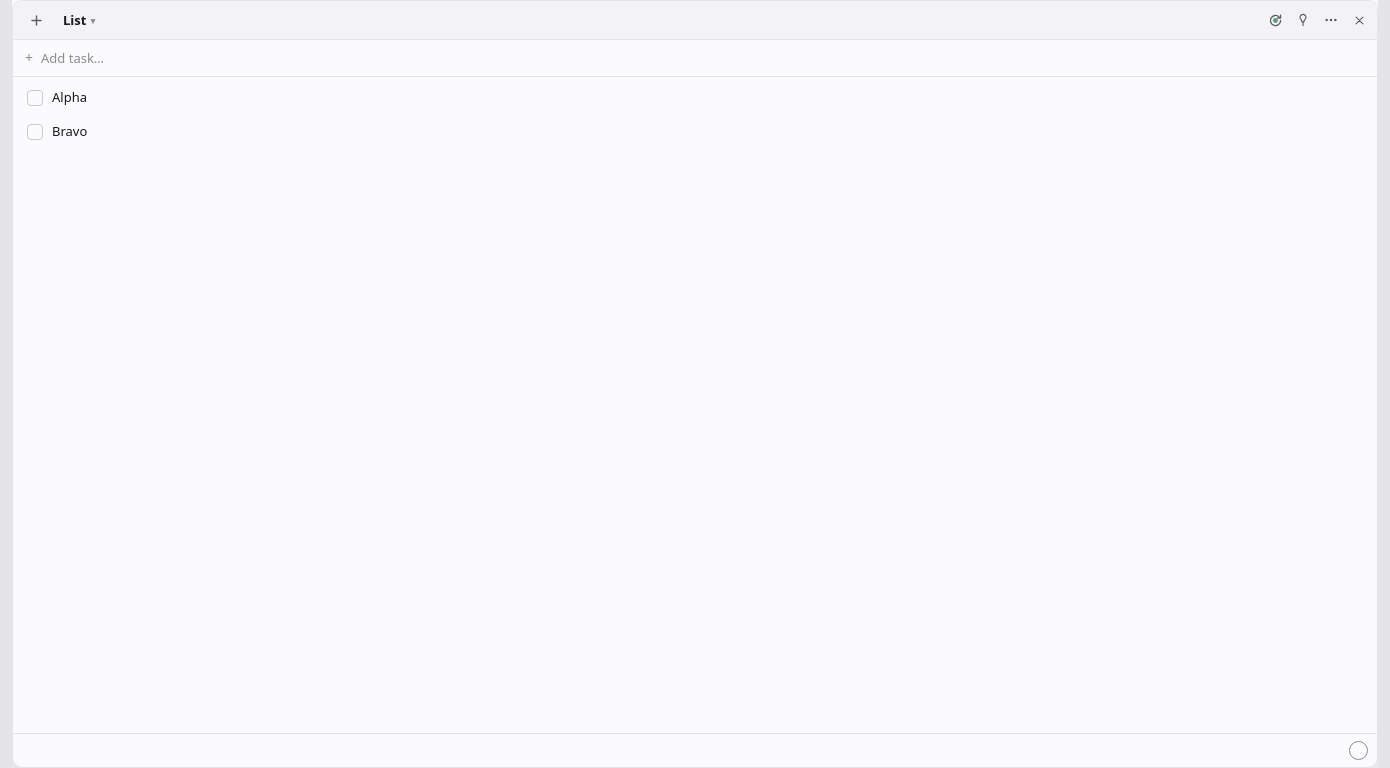
Test case: TaskWidget opening a task › hides subtasks when asked, except under the task being worked on
Expected: the text "Alpha child" is not shown
Click the text "Alpha": (70, 97) [52,88,87,106]
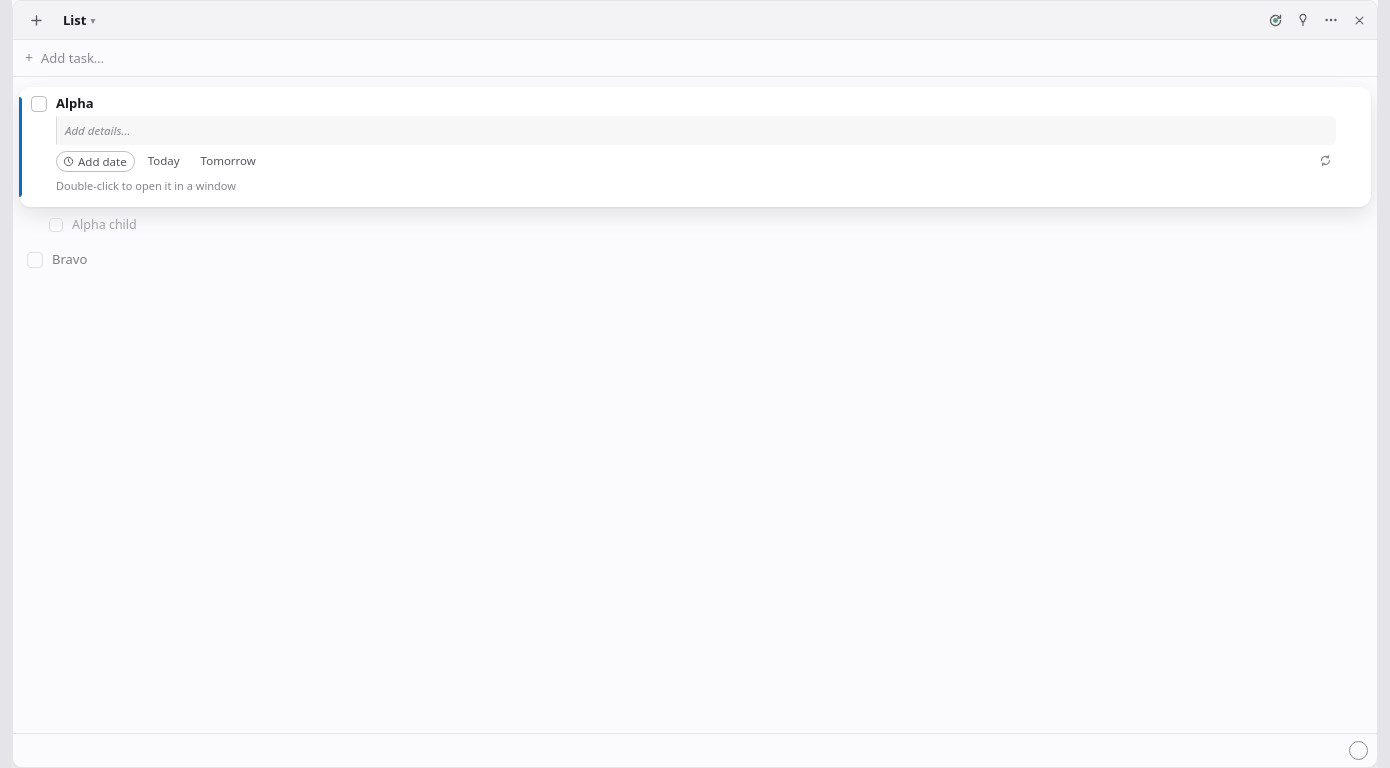
Expected: the text "Alpha child" is shown, [72,216,137,233]
